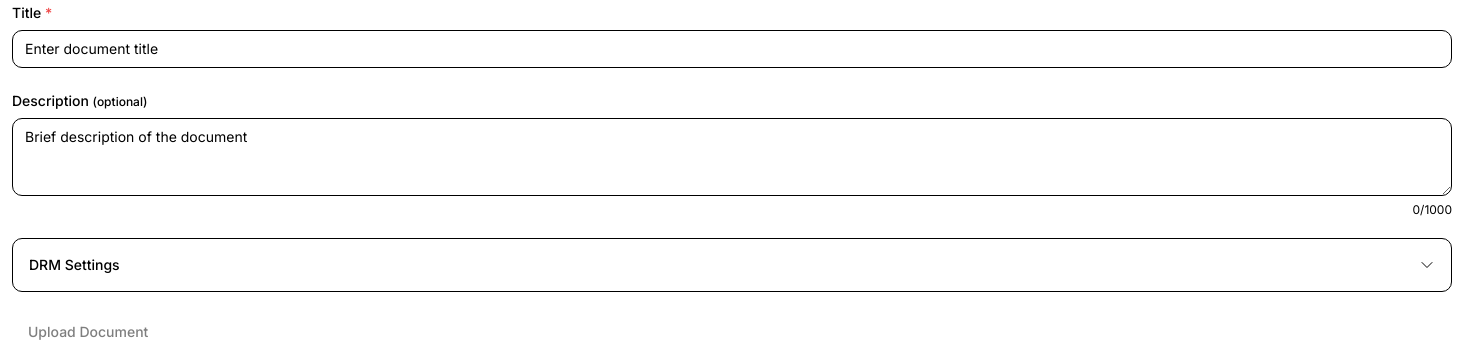
Scenario: UploadForm › Description field › shows character count for description
Type "Hello" into the text box with placeholder "Brief description of the document" at (732, 157), box [12,118,1452,196]
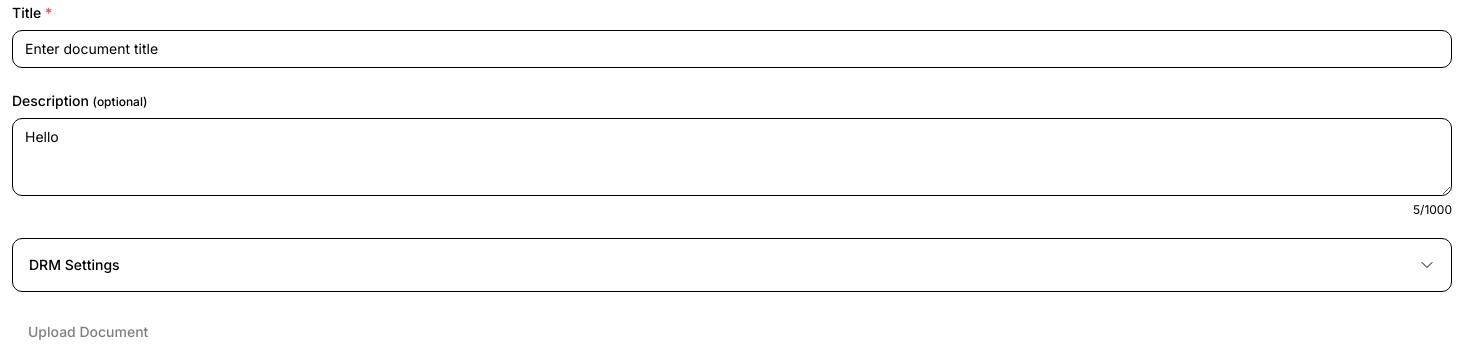
Check: the text "5/1000" is shown, box [1413,202,1452,217]
